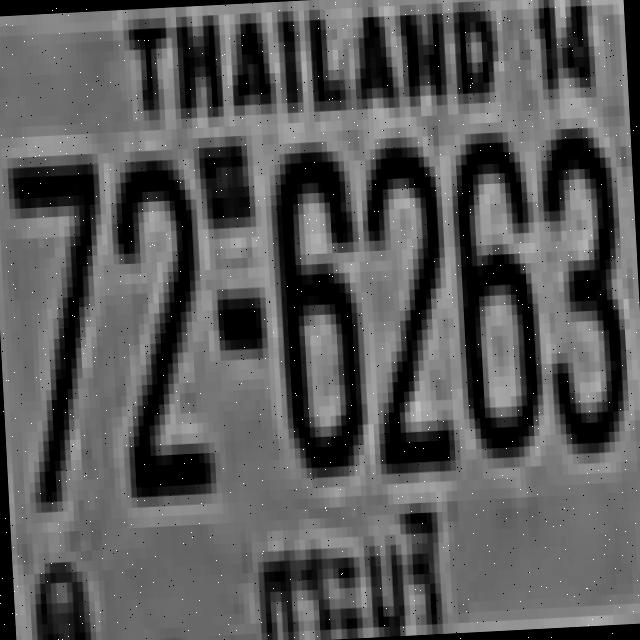2: (105, 149, 208, 488), (359, 137, 450, 464)
3: (534, 117, 626, 445)
6: (268, 131, 360, 469), (449, 122, 540, 450)
7: (1, 144, 110, 504)
Krabi: (249, 499, 451, 640)
